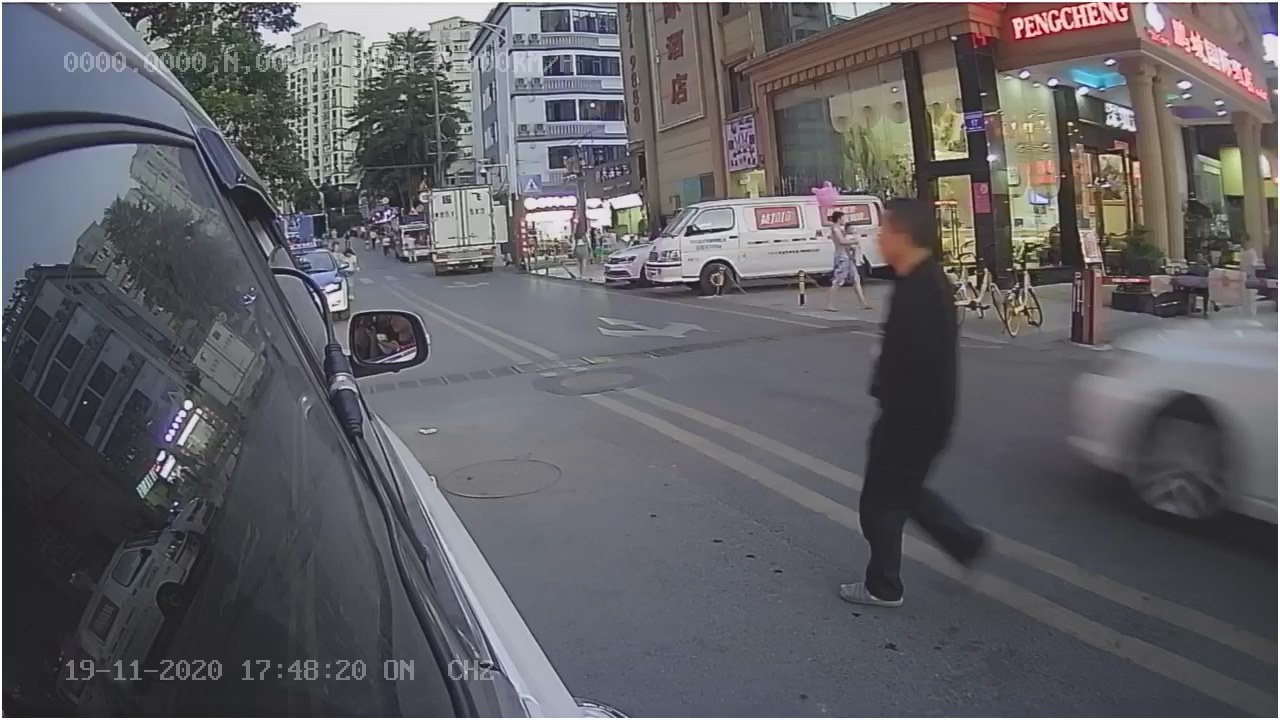person: (848, 198, 1006, 611)
